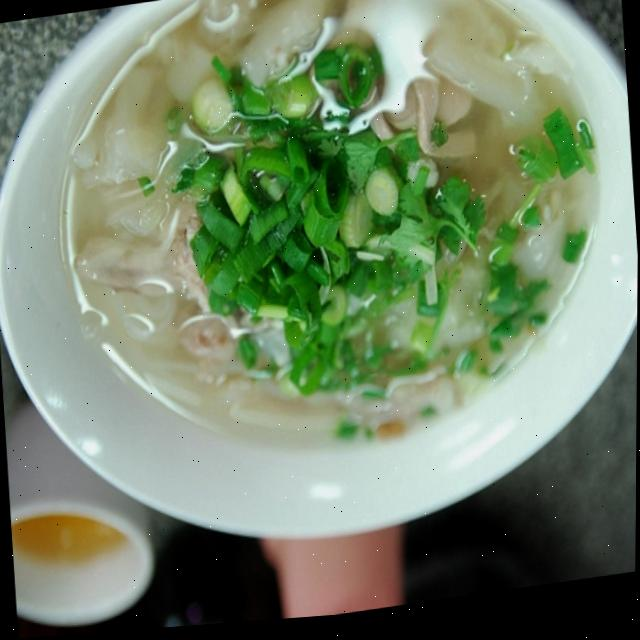面条主食: (44, 0, 604, 500)
